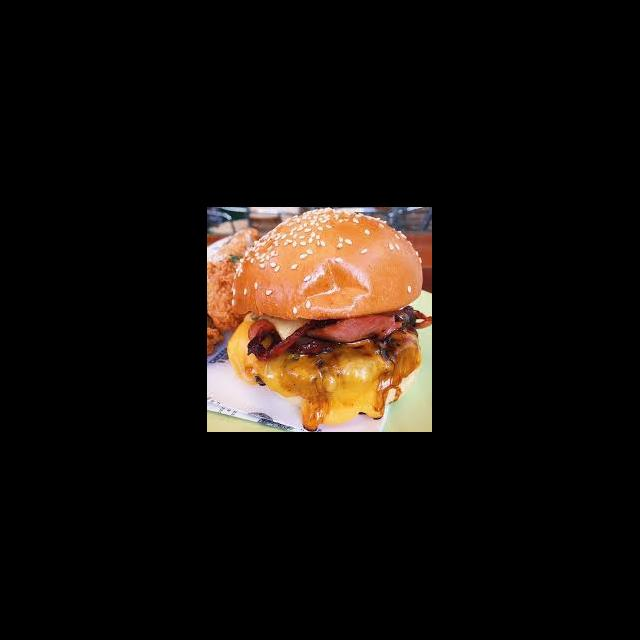food_waste: (222, 226, 432, 405)
